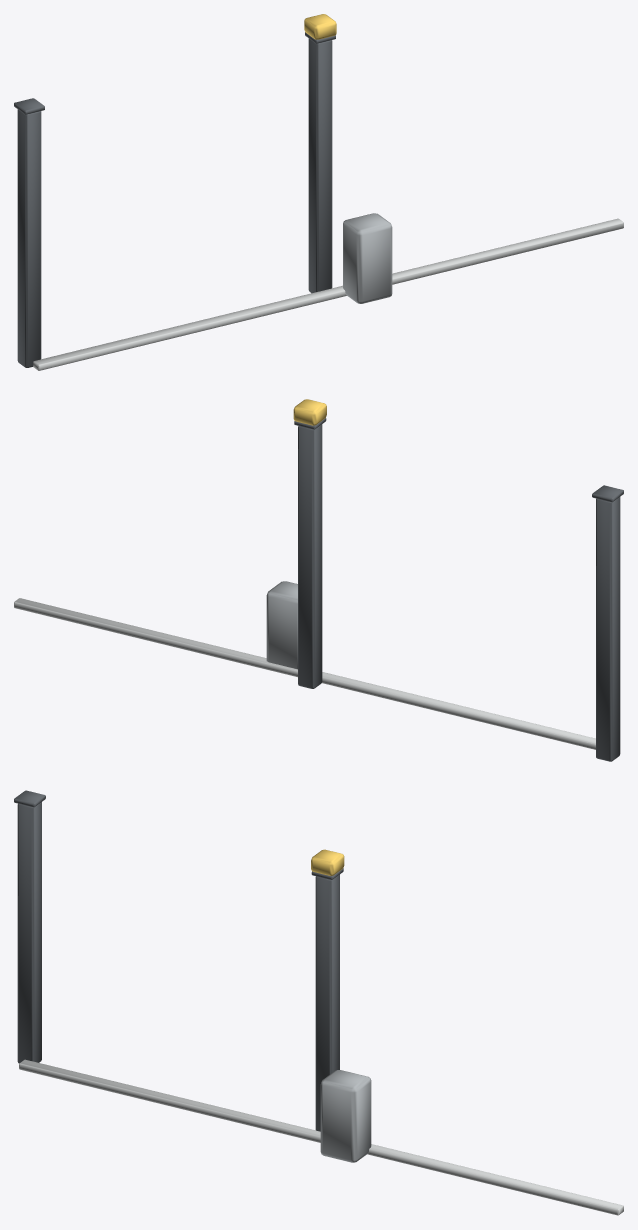
The model's file is gate_posts_3.glb.
3 views of the same model, one above another, from view 1: azimuth 30°, elevation 25°; view 2: azimuth 150°, elevation 25°; view 3: azimuth 330°, elevation 25° (orthographic). The views are drawn at different scales.
Visible parts, largest first — view 1: Body; view 2: Body; view 3: Body.
Boxes of the visible parts, x1=… form: Body: x1=14, y1=14, x2=623, y2=370; Body: x1=14, y1=399, x2=623, y2=761; Body: x1=14, y1=790, x2=623, y2=1215.
Size of the model in its own units: 5.85 by 2.57 by 0.51.
